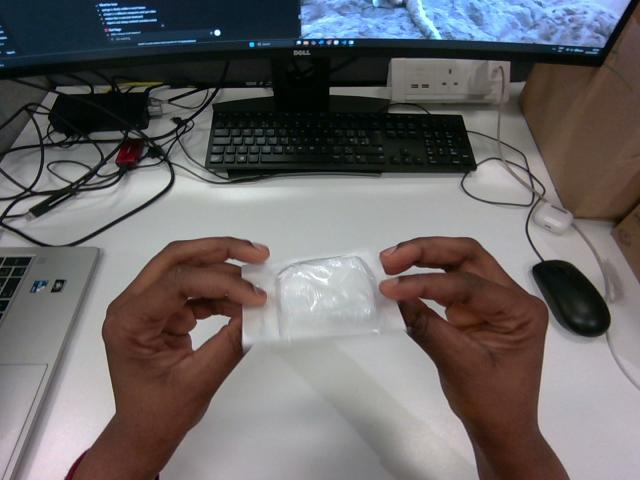gauze: (242, 253, 404, 348)
